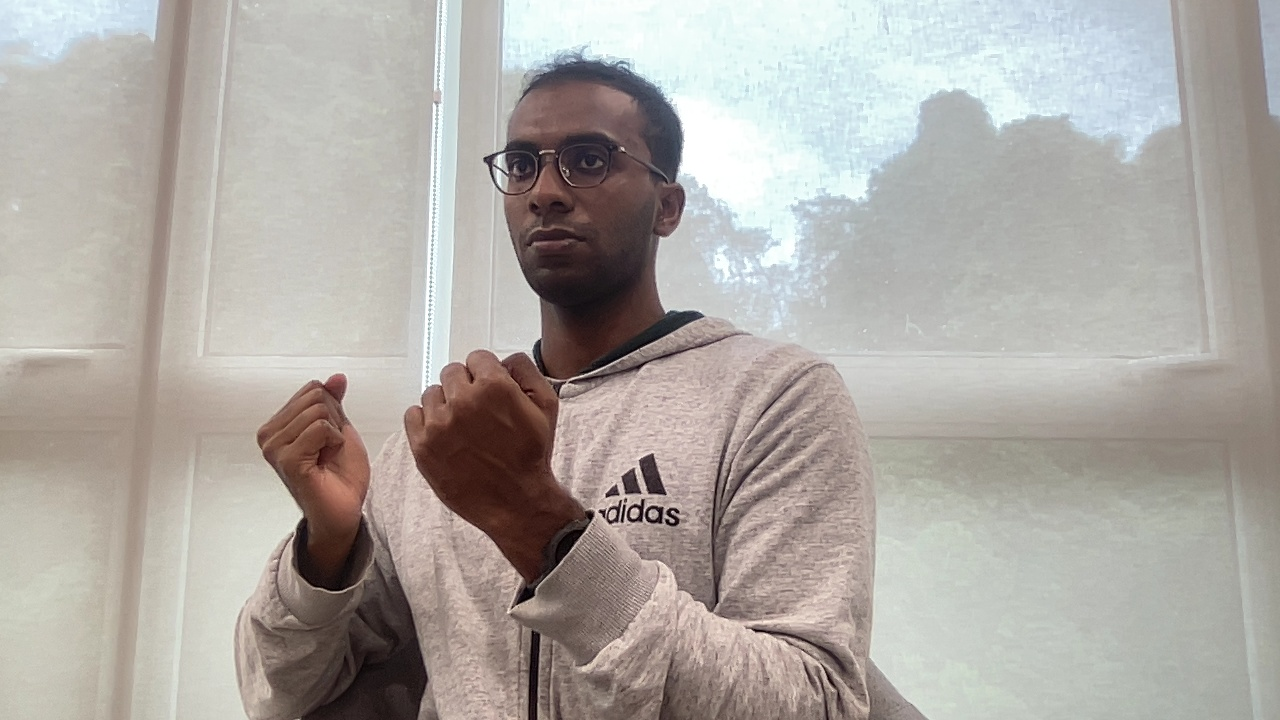finish: (254, 346, 571, 552)
